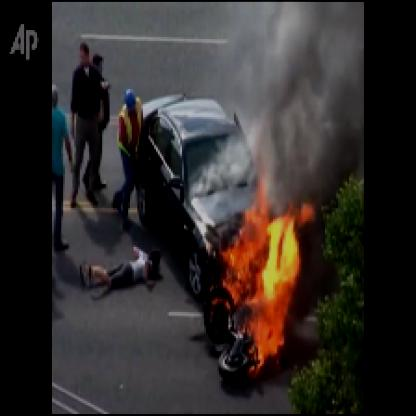Fire: (204, 162, 306, 380)
Smoke: (253, 2, 360, 176)
